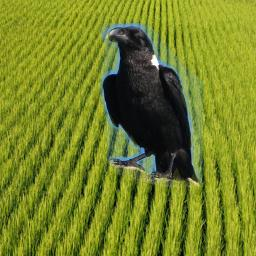Crow: (100, 23, 203, 187)
